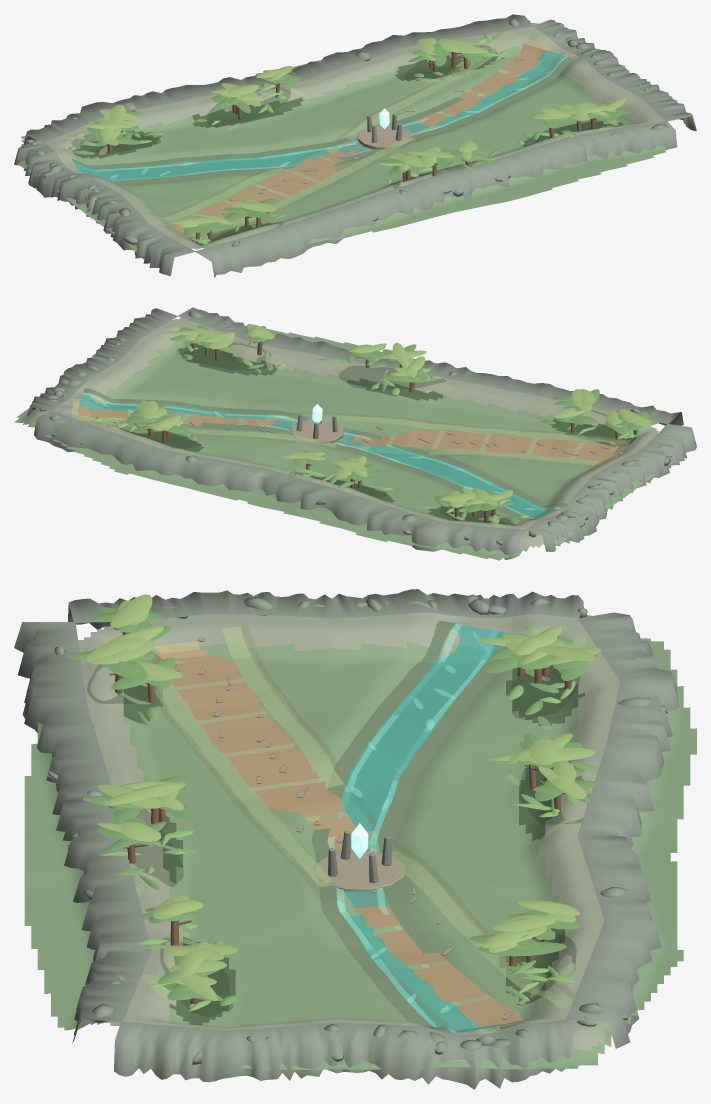
The model's file is moba_quality_chunk.glb.
3 renders of one model, top to bottom at view 1: azimuth 30°, elevation 25°; view 2: azimuth 150°, elevation 25°; view 3: azimuth 270°, elevation 25°, orthographic. The views are drawn at different scales.
Visible parts, largest first — view 1: authored_sculpted_terrain_continuous, authored_south_sculpted_cliff_wall, authored_north_sculpted_cliff_wall, authored_west_sculpted_cliff_wall, authored_lane_worn_designed_ribbon, authored_river_shallow_transparent_ribbon, authored_east_sculpted_cliff_wall, authored_lane_left_mossy_shoulder, authored_lane_right_mossy_shoulder, authored_river_right_muddy_bank, authored_river_left_muddy_bank, authored_canopy_integrated_ground_shadow.001 (+7 smaller); view 2: authored_sculpted_terrain_continuous, authored_north_sculpted_cliff_wall, authored_lane_worn_designed_ribbon, authored_west_sculpted_cliff_wall, authored_south_sculpted_cliff_wall, authored_river_shallow_transparent_ribbon, authored_east_sculpted_cliff_wall, authored_lane_left_mossy_shoulder, authored_lane_right_mossy_shoulder, authored_river_right_muddy_bank, authored_river_left_muddy_bank, authored_canopy_integrated_ground_shadow.004 (+7 smaller); view 3: authored_sculpted_terrain_continuous, authored_north_sculpted_cliff_wall, authored_south_sculpted_cliff_wall, authored_east_sculpted_cliff_wall, authored_lane_worn_designed_ribbon, authored_river_shallow_transparent_ribbon, authored_west_sculpted_cliff_wall, authored_lane_right_mossy_shoulder, authored_lane_left_mossy_shoulder, authored_river_right_muddy_bank, authored_river_left_muddy_bank, authored_lane_right_dark_cut (+11 smaller).
Part boxes in pixels (x1=…): authored_sculpted_terrain_continuous: x1=18, y1=23, x2=667, y2=252; authored_south_sculpted_cliff_wall: x1=195, y1=121, x2=677, y2=278; authored_north_sculpted_cliff_wall: x1=24, y1=14, x2=532, y2=144; authored_west_sculpted_cliff_wall: x1=14, y1=143, x2=194, y2=276; authored_lane_worn_designed_ribbon: x1=171, y1=38, x2=550, y2=237; authored_river_shallow_transparent_ribbon: x1=73, y1=50, x2=567, y2=180; authored_east_sculpted_cliff_wall: x1=532, y1=19, x2=696, y2=131; authored_lane_left_mossy_shoulder: x1=153, y1=31, x2=516, y2=221; authored_lane_right_mossy_shoulder: x1=189, y1=49, x2=562, y2=239; authored_river_right_muddy_bank: x1=79, y1=57, x2=576, y2=184; authored_river_left_muddy_bank: x1=72, y1=71, x2=518, y2=169; authored_canopy_integrated_ground_shadow.001: x1=206, y1=86, x2=290, y2=126; authored_sculpted_terrain_continuous: x1=14, y1=317, x2=675, y2=560; authored_north_sculpted_cliff_wall: x1=34, y1=410, x2=524, y2=559; authored_lane_worn_designed_ribbon: x1=71, y1=401, x2=628, y2=461; authored_west_sculpted_cliff_wall: x1=525, y1=424, x2=696, y2=551; authored_south_sculpted_cliff_wall: x1=178, y1=307, x2=683, y2=425; authored_river_shallow_transparent_ribbon: x1=79, y1=392, x2=563, y2=518; authored_east_sculpted_cliff_wall: x1=27, y1=308, x2=177, y2=415; authored_lane_left_mossy_shoulder: x1=71, y1=415, x2=618, y2=465; authored_lane_right_mossy_shoulder: x1=74, y1=398, x2=631, y2=444; authored_river_right_muddy_bank: x1=83, y1=388, x2=567, y2=507; authored_river_left_muddy_bank: x1=77, y1=405, x2=539, y2=521; authored_canopy_integrated_ground_shadow.004: x1=339, y1=366, x2=445, y2=389; authored_sculpted_terrain_continuous: x1=24, y1=612, x2=696, y2=1069; authored_north_sculpted_cliff_wall: x1=566, y1=612, x2=679, y2=1048; authored_south_sculpted_cliff_wall: x1=14, y1=622, x2=151, y2=1042; authored_east_sculpted_cliff_wall: x1=114, y1=1020, x2=573, y2=1089; authored_lane_worn_designed_ribbon: x1=151, y1=641, x2=538, y2=1027; authored_river_shallow_transparent_ribbon: x1=335, y1=624, x2=506, y2=1033; authored_west_sculpted_cliff_wall: x1=68, y1=589, x2=583, y2=629; authored_lane_right_mossy_shoulder: x1=148, y1=649, x2=496, y2=1034; authored_lane_left_mossy_shoulder: x1=222, y1=626, x2=573, y2=1008; authored_river_right_muddy_bank: x1=312, y1=620, x2=455, y2=1033; authored_river_left_muddy_bank: x1=377, y1=632, x2=510, y2=1029; authored_lane_right_dark_cut: x1=154, y1=686, x2=477, y2=1033.
Size of the model in its own units: 56.2 by 4.39 by 34.84.
